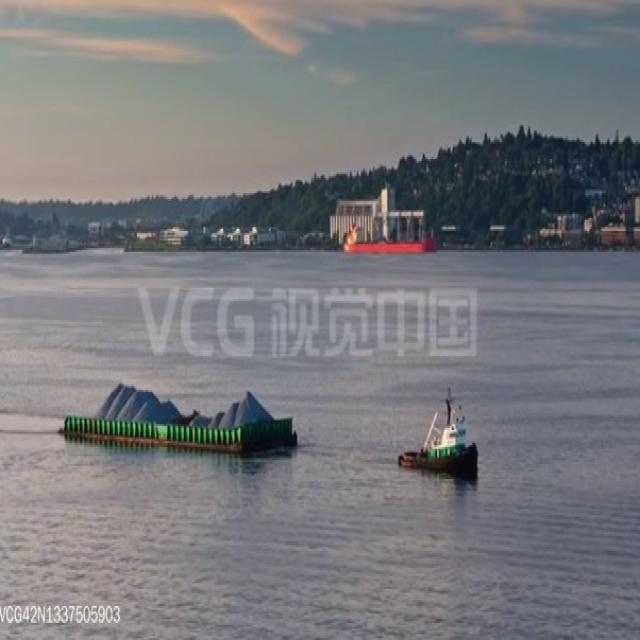cargoship: (64, 381, 296, 464), (341, 212, 436, 258)
houseboat: (394, 401, 482, 474)
